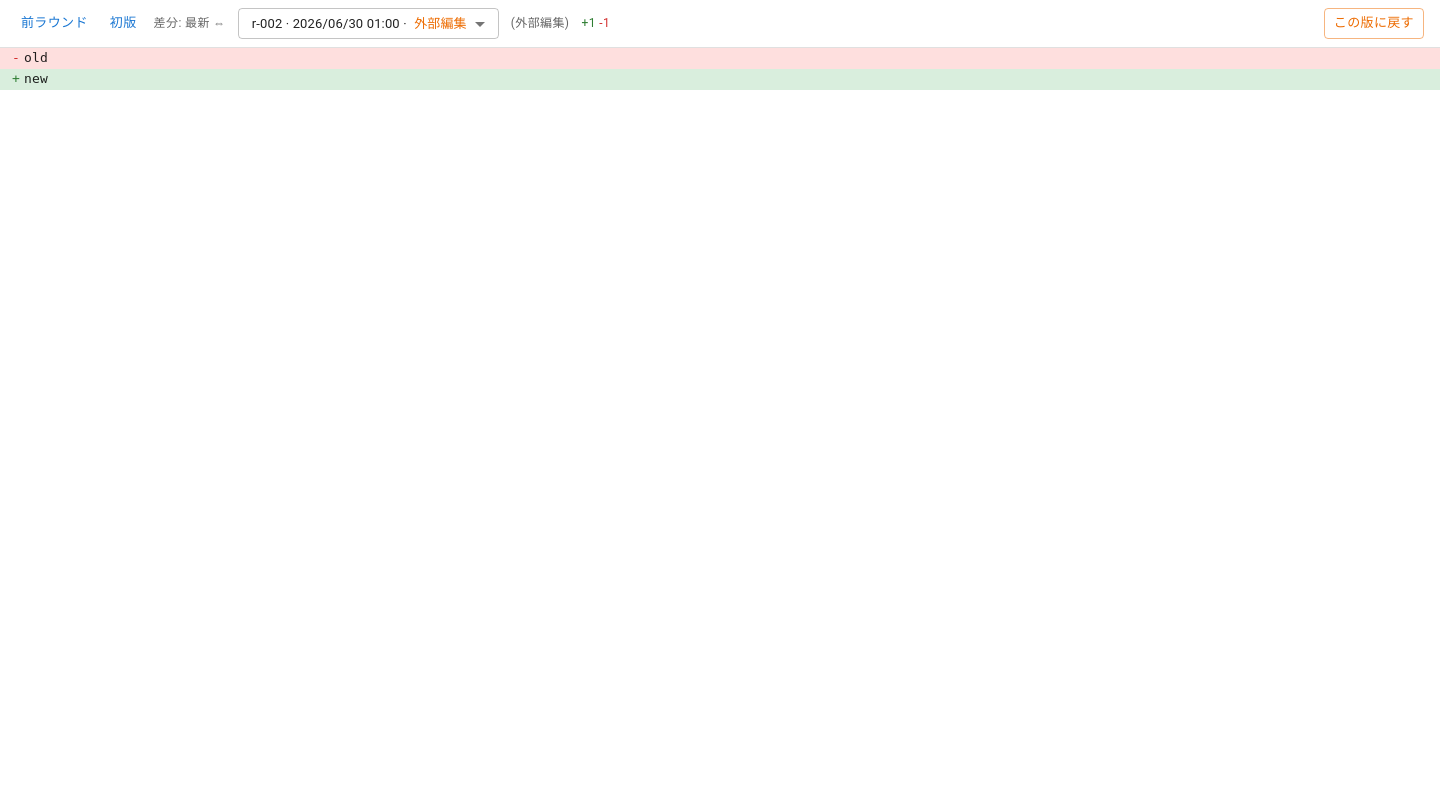
Test: DiffView – Issue #282 restore button › clicking the restore button opens a confirm dialog naming the selected revision
Click the button with test id "diff-btn-restore" at (1374, 24), box [1324, 8, 1424, 39]
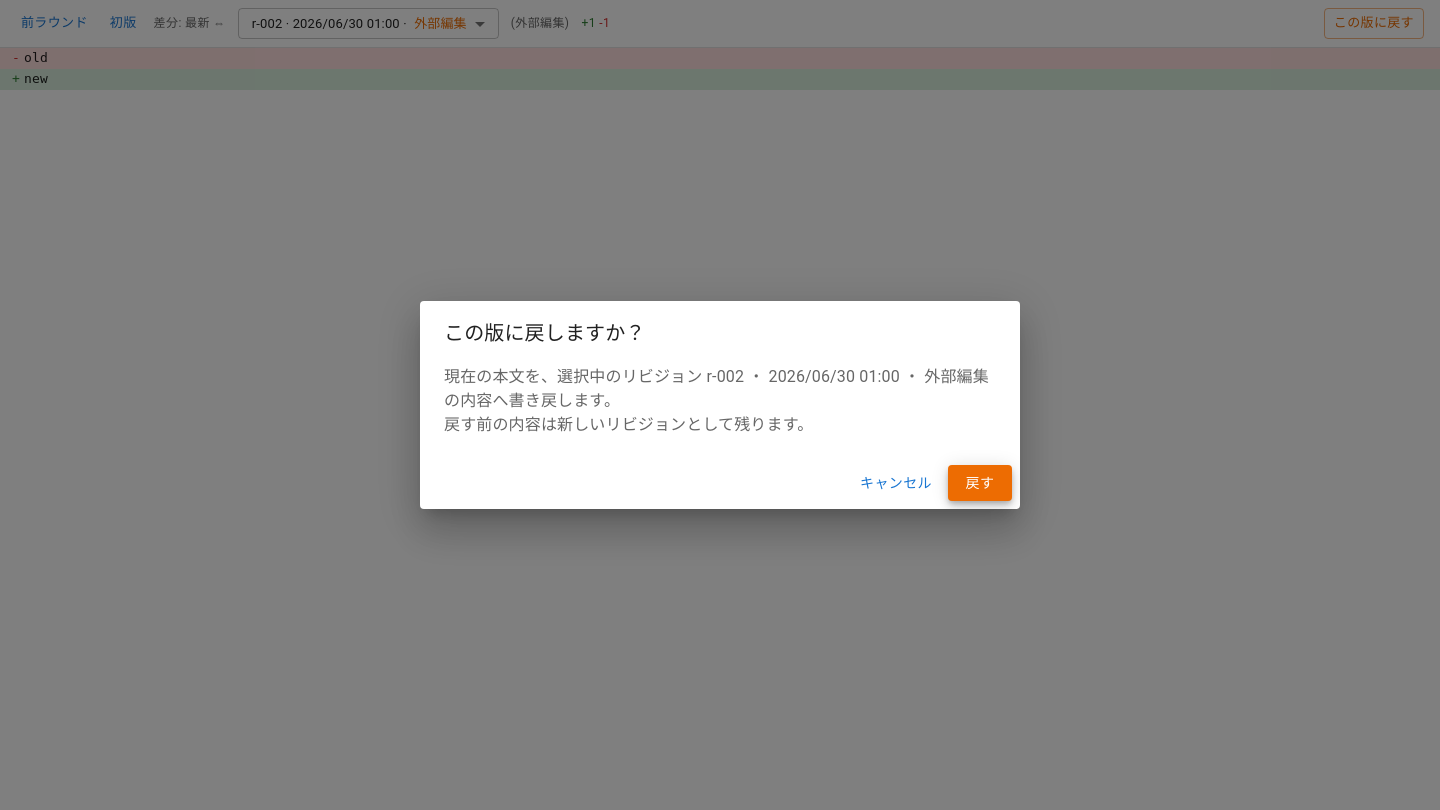
Expected: the element with test id "diff-restore-dialog" is shown
Expected: the element with test id "diff-restore-dialog" shows "r-002", [706, 367, 744, 386]
Expected: the element with test id "diff-restore-dialog" shows "外部編集", [924, 367, 989, 386]
